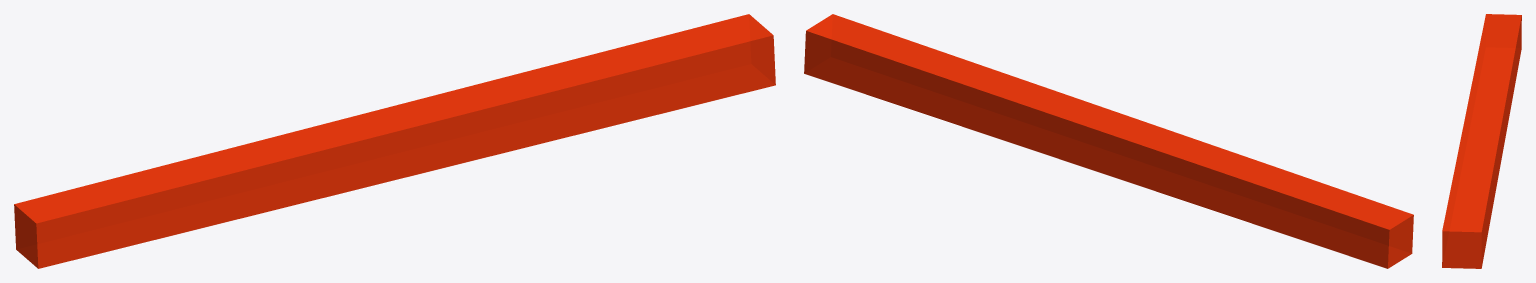
The model's file is Event_420094457_EErechit_45.fbx.
3 renders of one model, left to right at view 1: azimuth 30°, elevation 25°; view 2: azimuth 150°, elevation 25°; view 3: azimuth 270°, elevation 25°, orthographic. The views are drawn at different scales.
Parts seen in each view (by area): view 1: Model; view 2: Model; view 3: Model.
Boxes of the visible parts, x1=… form: Model: x1=14, y1=14, x2=775, y2=268; Model: x1=804, y1=14, x2=1413, y2=268; Model: x1=1442, y1=14, x2=1521, y2=268.
Bounding box in the file's own units: 1.18 × 0.1334 × 0.1608.
